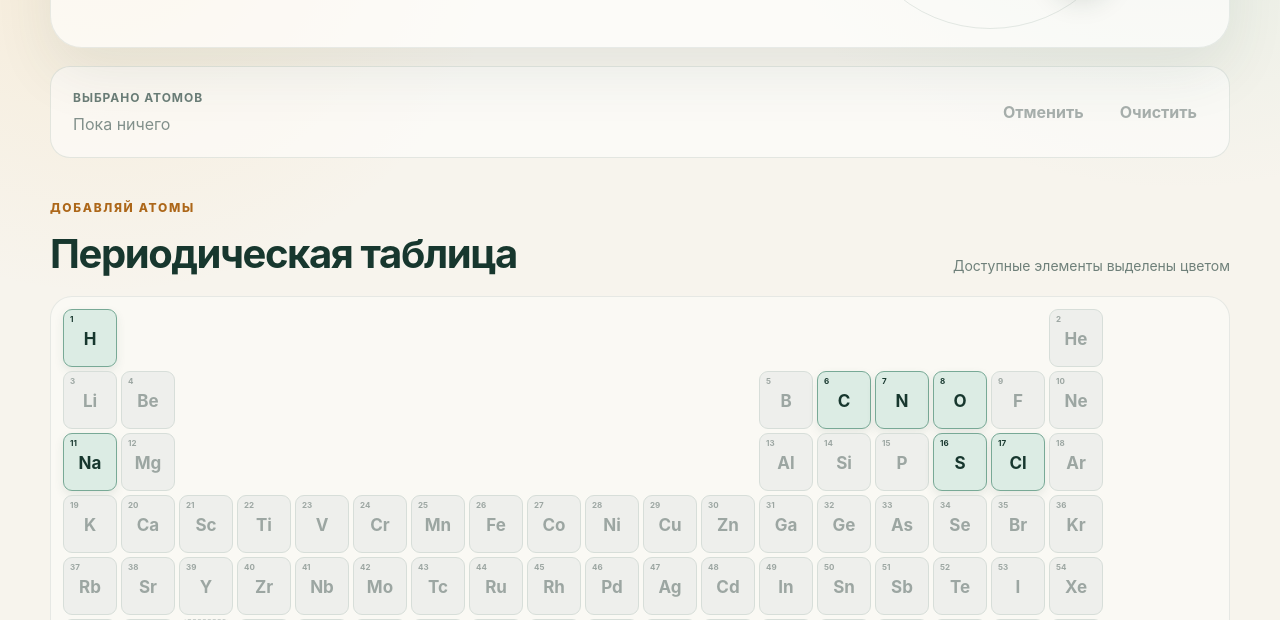
Test case: molecule constructor › resolves the same molecule in a different click order
(page scrolled)
Click the button named "Кислород, O, атомный номер 8, добавить атом".
click(960, 400)  # box [933,371,987,429]
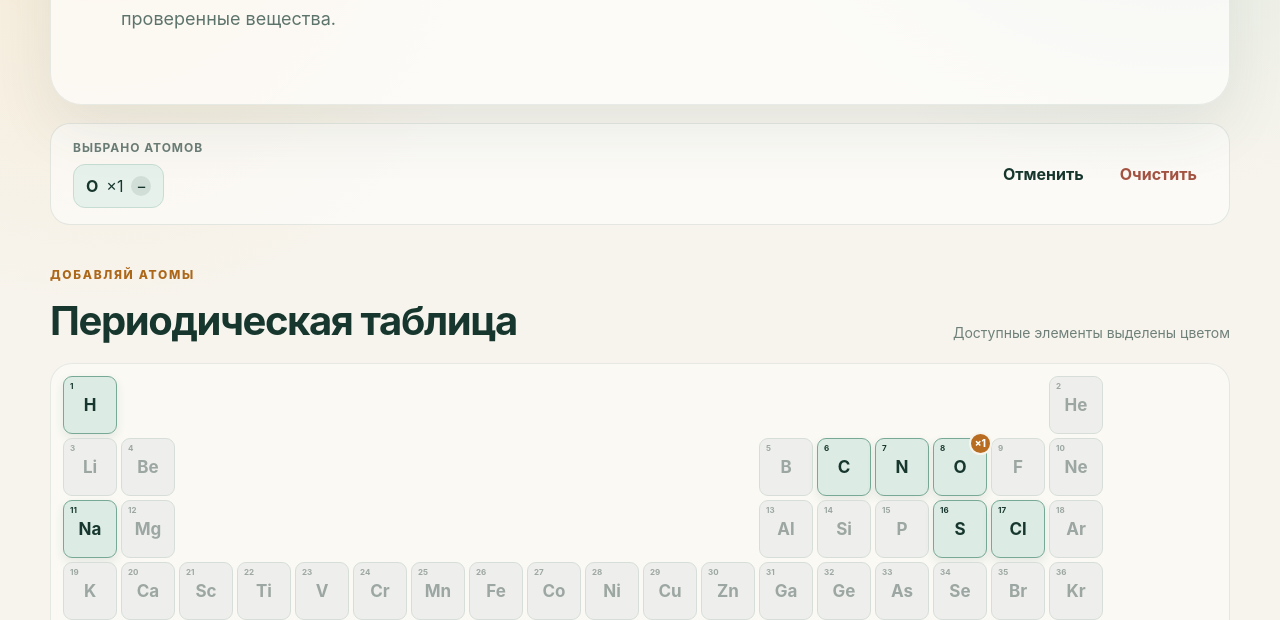
Click the button named "Водород, H, атомный номер 1, добавить атом".
click(90, 405)  # box [63,376,117,434]
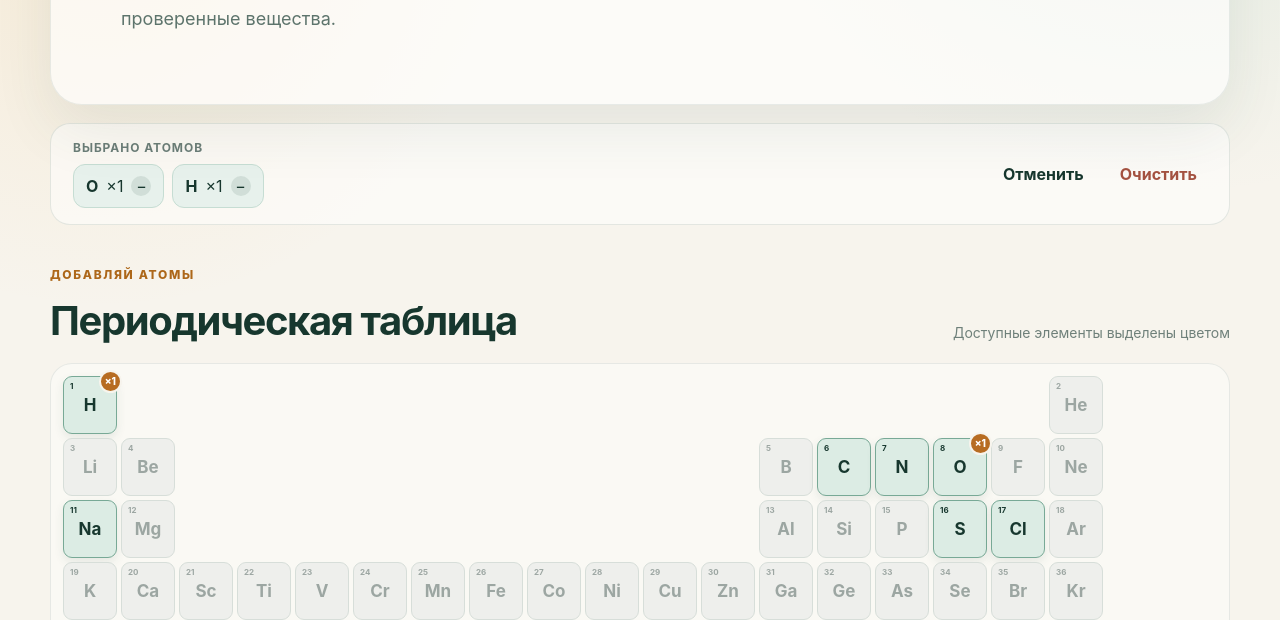
Click the button named "Водород, H, атомный номер 1, добавить атом".
click(90, 405)  # box [63,376,117,434]
(page scrolled)
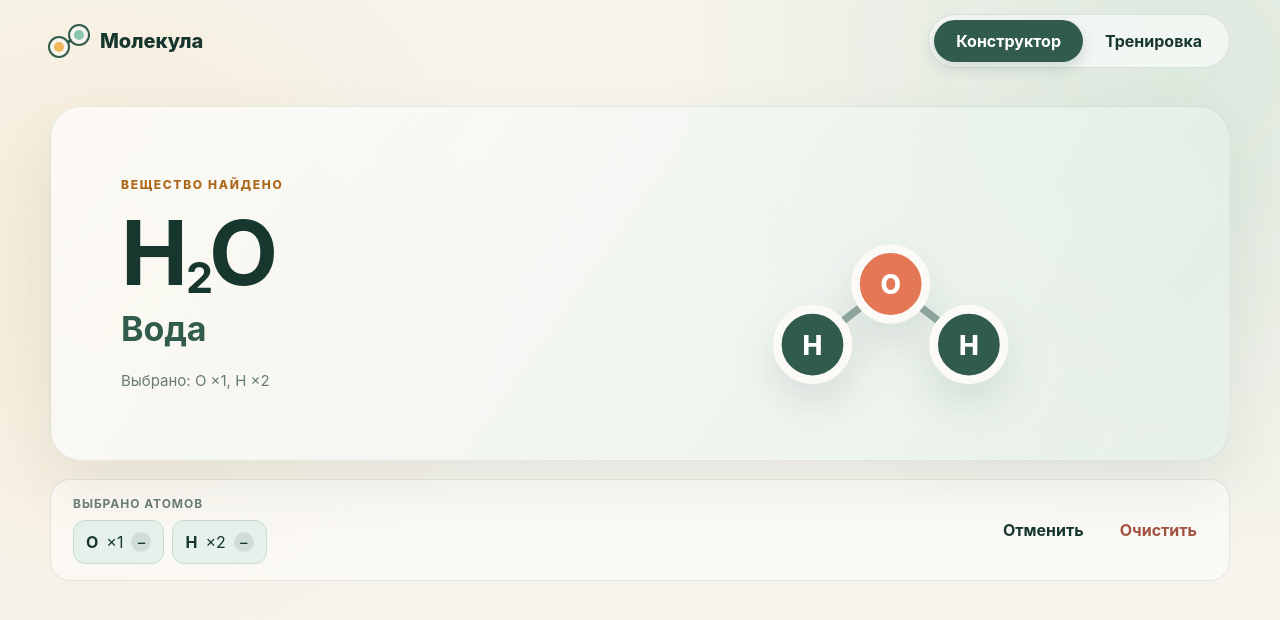
Check: the text "Вода" is shown, box [121,308,207,349]
